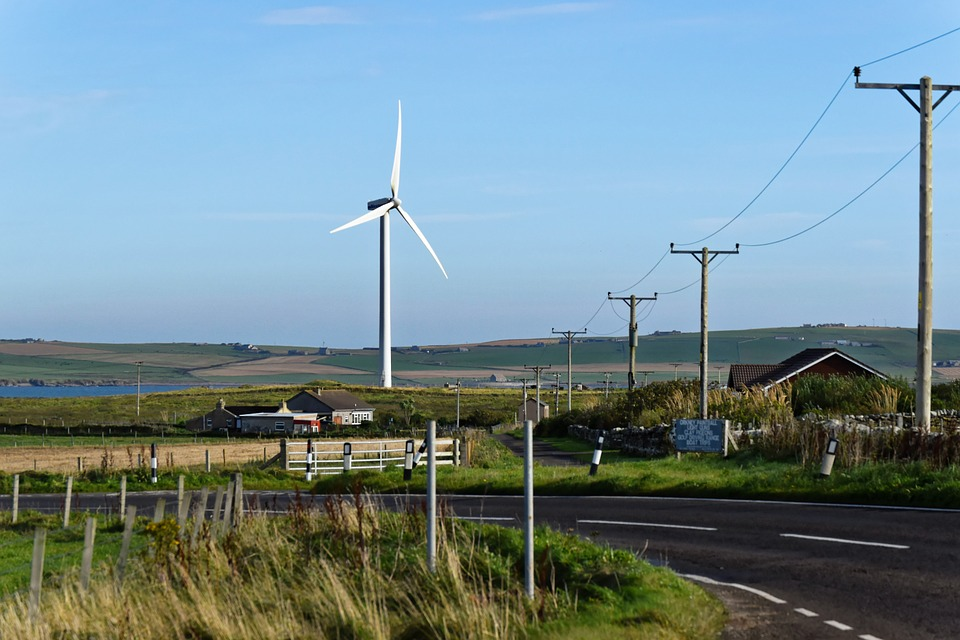utility_pole: (838, 50, 960, 134), (661, 231, 744, 273)
